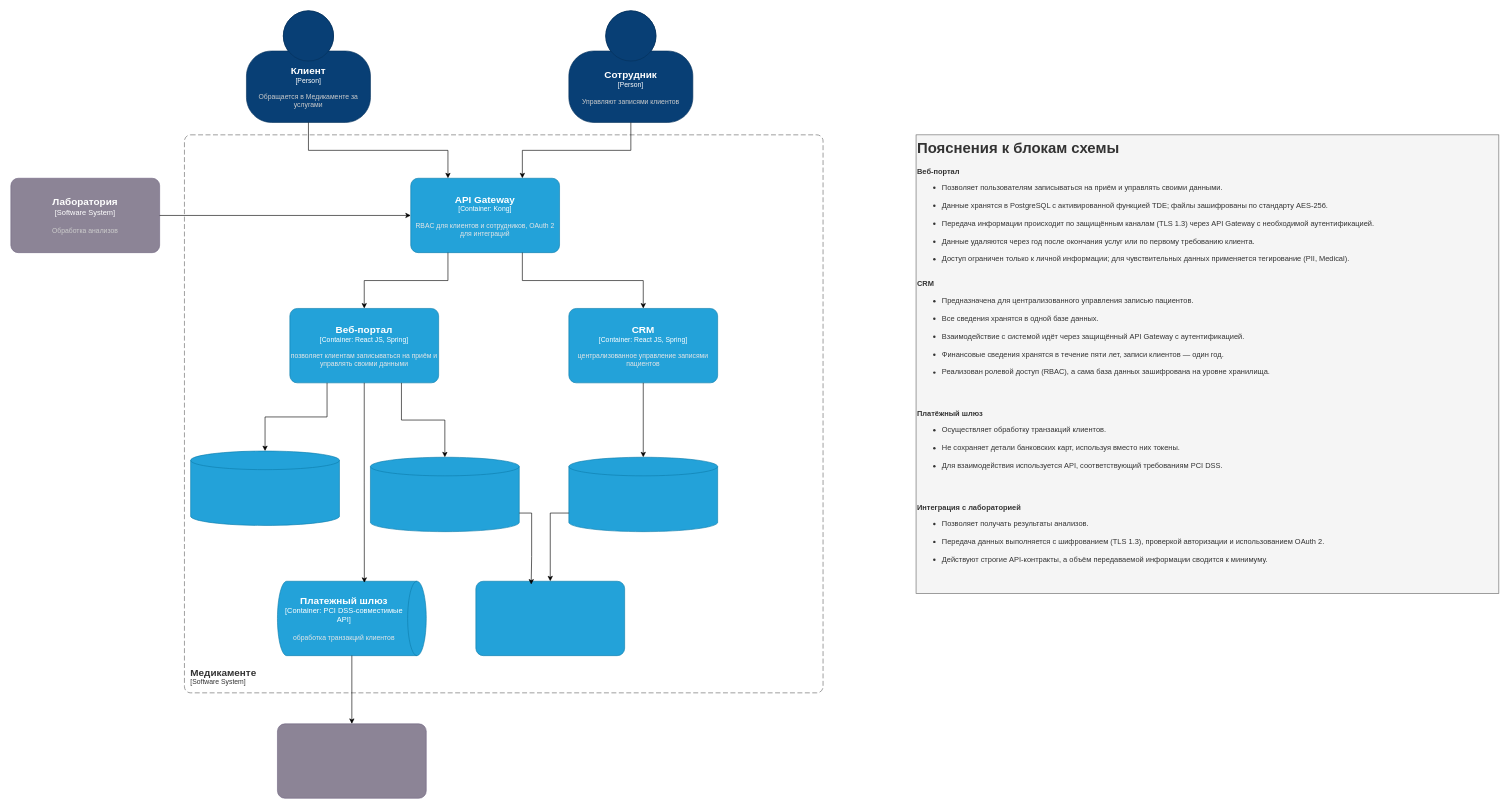
The diagram is 1510 pixels wide and 809 high, and some of its shapes have lost their labels. The shapes that lost their labels are listed below. From the top down, each one's centre as x and y in pixels, then its label:
pixel 264 487: Файловое хранилище [Container: S3 подобное хранилище] Сканы, снимки и т. д.
pixel 444 494: База данных Веб-портала [Container: PostgreSQL]
pixel 643 494: База данных CRM [Container: PostgreSQL]
pixel 550 618: Тегирование данных [Container: DataGrail]
pixel 351 760: Банк [Software System]
